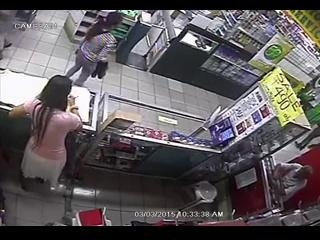Normal: (8, 74, 83, 194), (65, 18, 122, 88)
